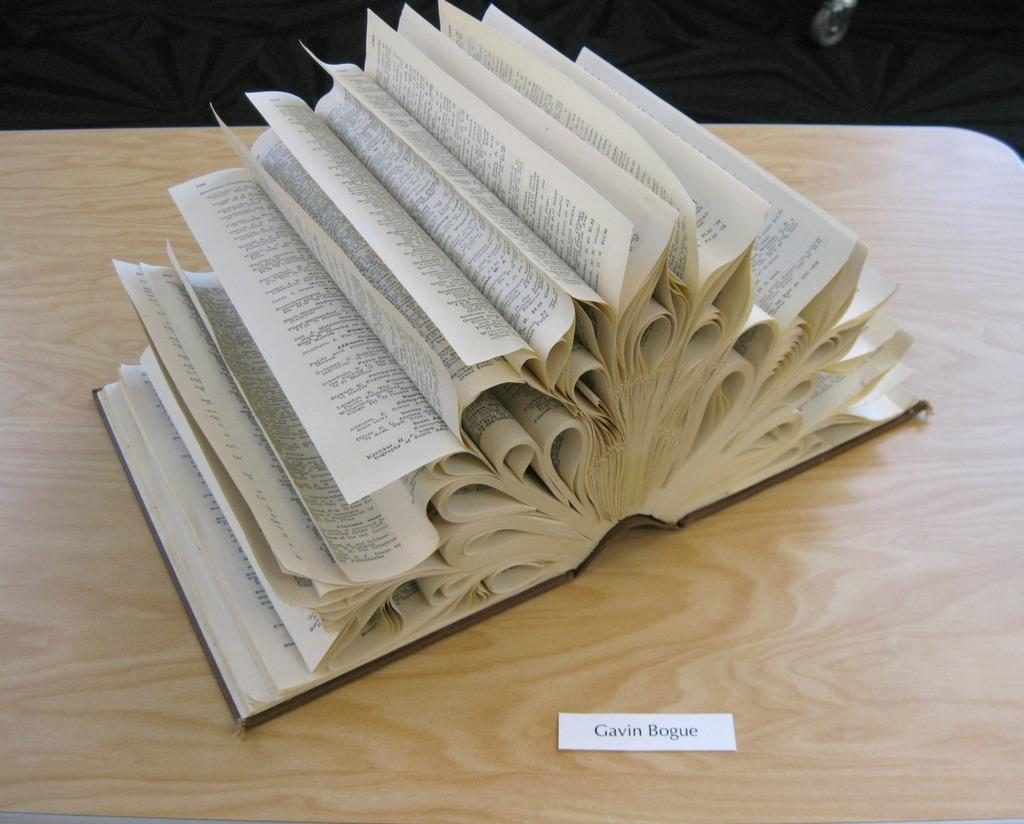book: (90, 0, 938, 737)
